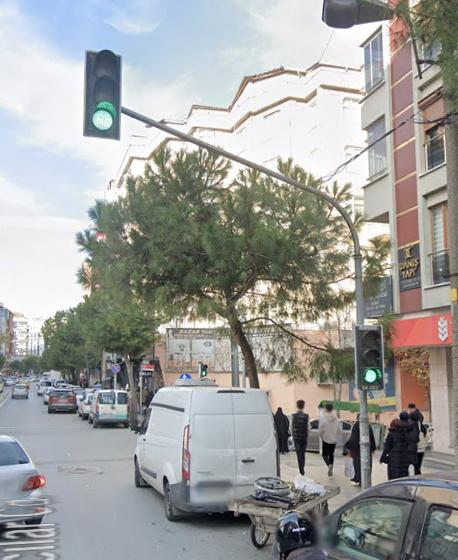greenlight: (84, 50, 120, 138), (355, 323, 384, 388)
